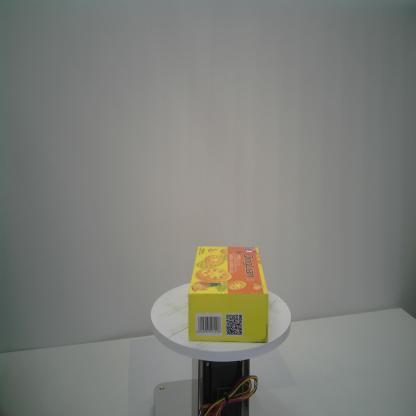Dessert: (187, 245, 270, 345)
